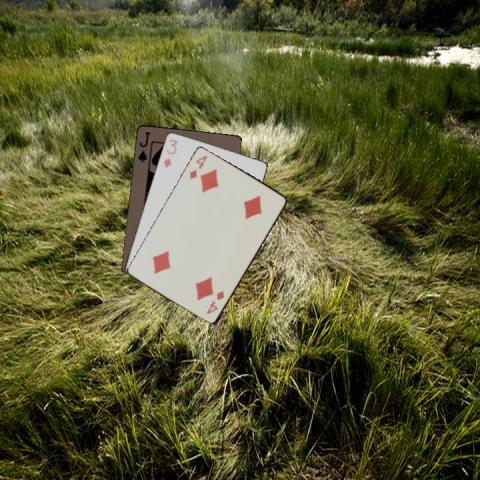3d: (161, 136, 179, 169)
4d: (186, 152, 208, 181), (204, 288, 226, 316)
Js: (135, 129, 151, 163)
